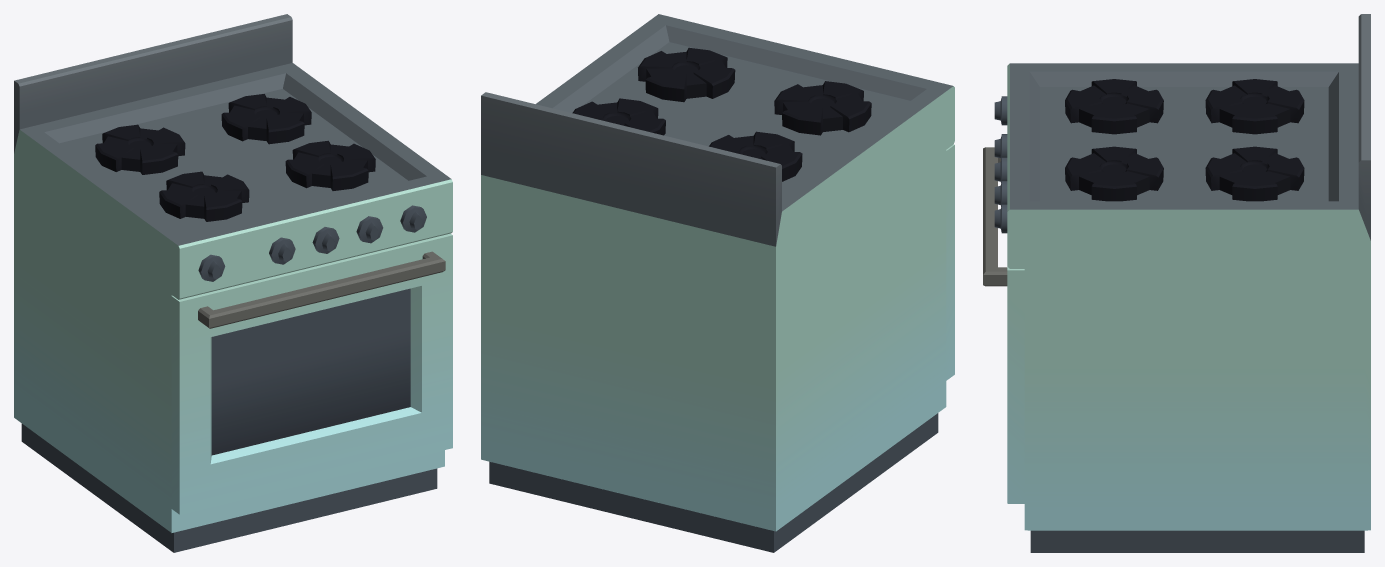
Rendered from Kitchen_stove_04.fbx.
3 renders of one model, left to right at view 1: azimuth 30°, elevation 25°; view 2: azimuth 150°, elevation 25°; view 3: azimuth 270°, elevation 25°, orthographic. The views are drawn at different scales.
Parts seen in each view (by area): view 1: Kitchen_stove_04, Oven_door.003, Control_knob_01.003, Control_knob_02.003, Control_knob_05.003, Control_knob_04.003, Control_knob_03.003; view 2: Kitchen_stove_04, Oven_door.003; view 3: Kitchen_stove_04, Oven_door.003.
Boxes of the visible parts, left/top/right/bottom form: Kitchen_stove_04: left=14, top=14, right=452, bottom=552; Oven_door.003: left=171, top=233, right=452, bottom=514; Control_knob_01.003: left=198, top=254, right=225, bottom=281; Control_knob_02.003: left=269, top=237, right=295, bottom=264; Control_knob_05.003: left=400, top=205, right=426, bottom=232; Control_knob_04.003: left=356, top=216, right=383, bottom=243; Control_knob_03.003: left=312, top=227, right=339, bottom=253; Kitchen_stove_04: left=481, top=14, right=954, bottom=552; Oven_door.003: left=946, top=144, right=954, bottom=380; Kitchen_stove_04: left=1007, top=14, right=1370, bottom=552; Oven_door.003: left=983, top=147, right=1024, bottom=503.
Bounding box in the file's own units: 200 × 252 × 224.
